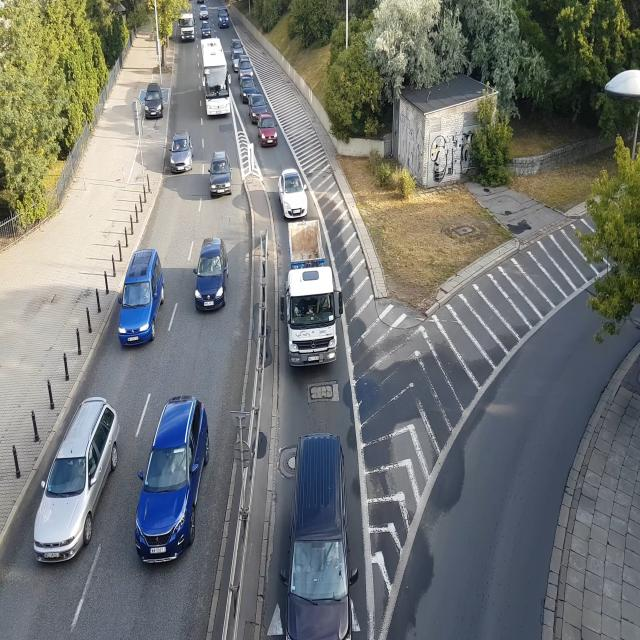bus: (200, 39, 232, 120)
car: (20, 391, 124, 574), (282, 427, 349, 640), (131, 376, 204, 567), (114, 250, 166, 345), (193, 237, 229, 313), (279, 168, 308, 218), (168, 129, 194, 177), (209, 152, 231, 198), (141, 85, 165, 120), (249, 93, 275, 119), (259, 120, 278, 146), (238, 77, 256, 99), (236, 56, 254, 78), (218, 7, 230, 28), (198, 4, 210, 20), (200, 22, 212, 38), (230, 35, 242, 51), (232, 50, 244, 64)
truck: (284, 220, 343, 372), (179, 8, 196, 46)
